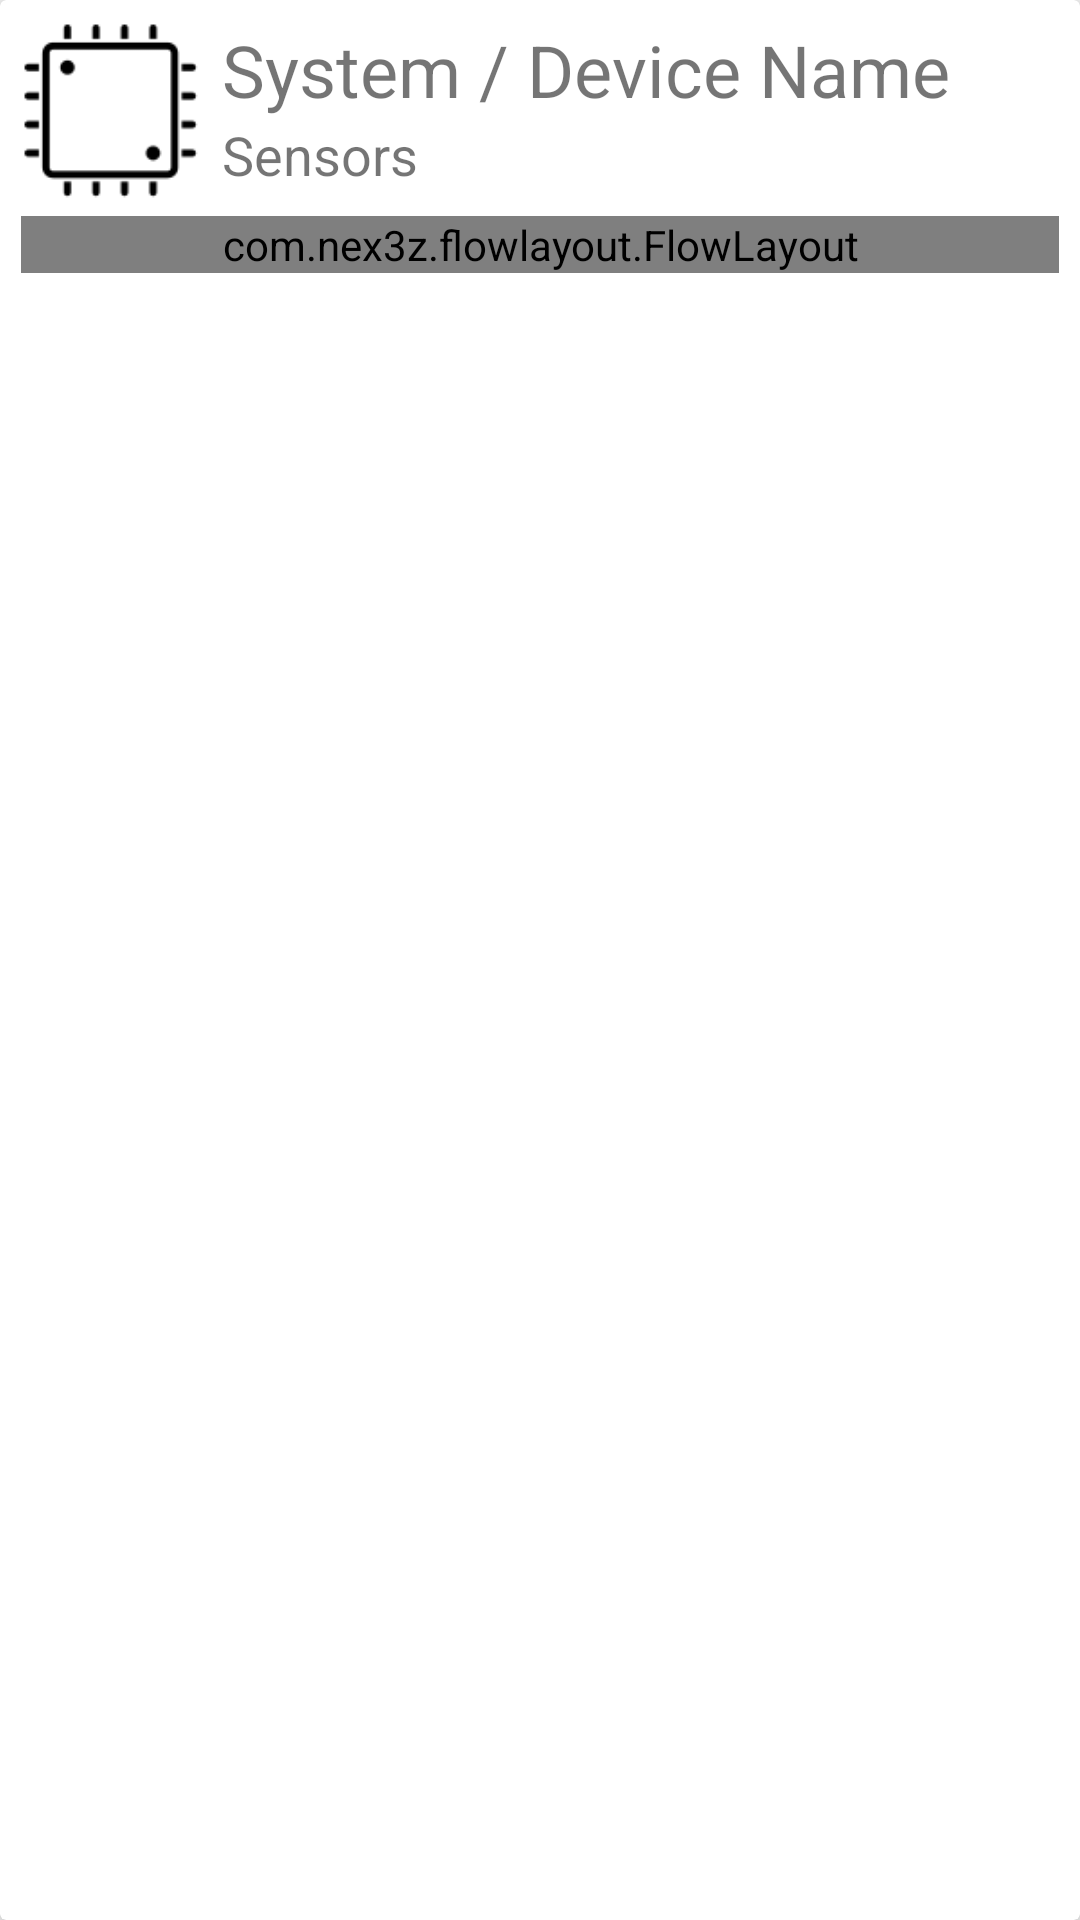

Icons on this 1080 × 1920 Android screen, each with the point to tap as point (x, y):
processor: point (110, 110)
